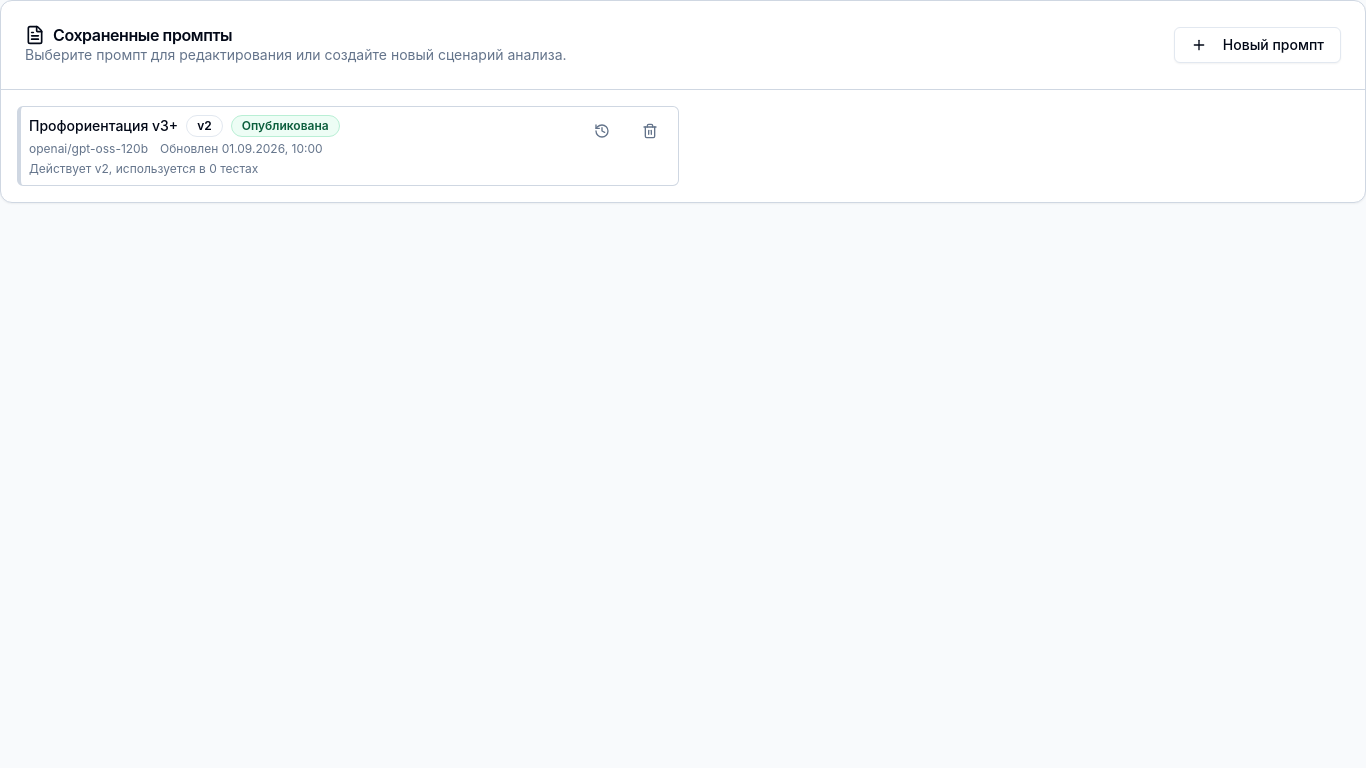
Test case: PromptLibraryCard history › opens the history of a prompt with who changed what
Click the button named "История промпта Профориентация v3+": x=602, y=131 [582,115,622,147]
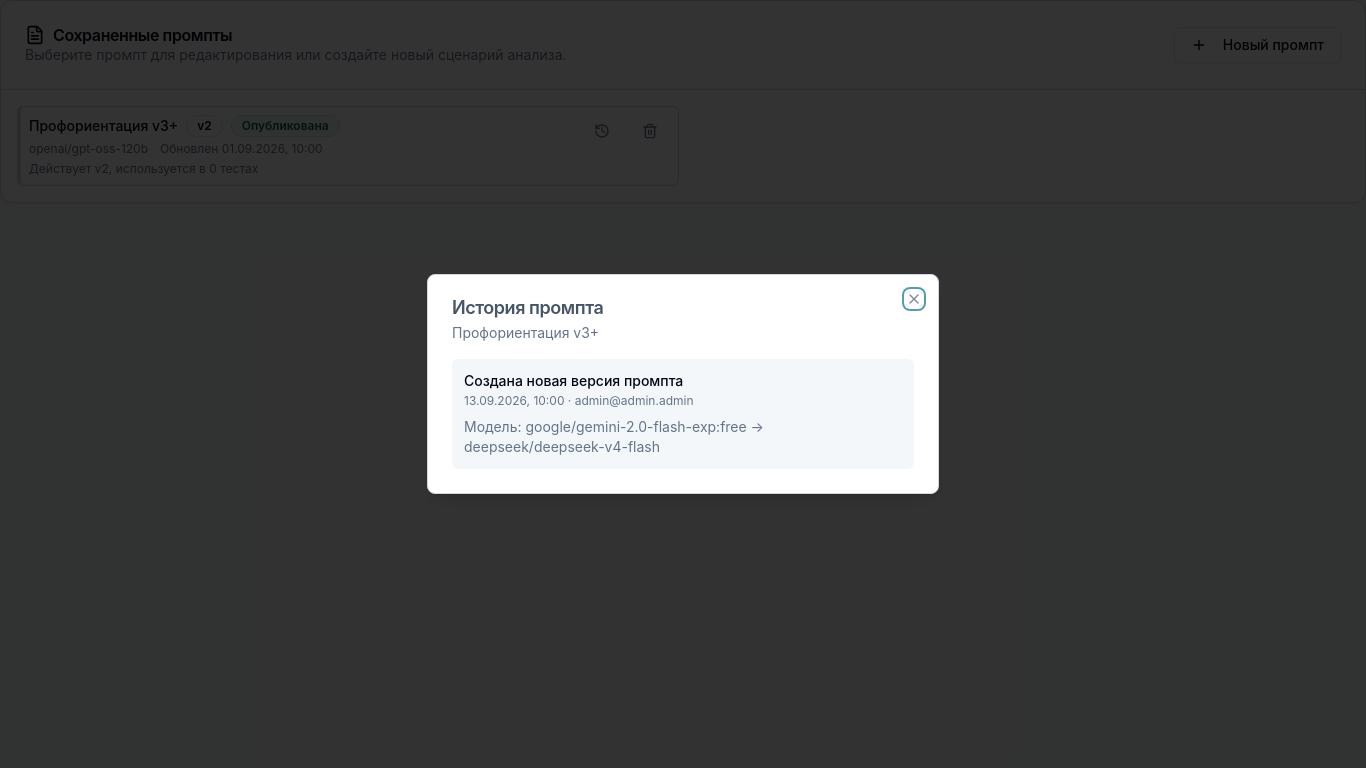
Check: the text "Создана новая версия промпта" is shown, box [464,372,683,389]
Check: the list item "Модель: google/gemini-2.0-flash-exp:free → deepseek/deepseek-v4-flash" is shown, box [464,418,764,455]
